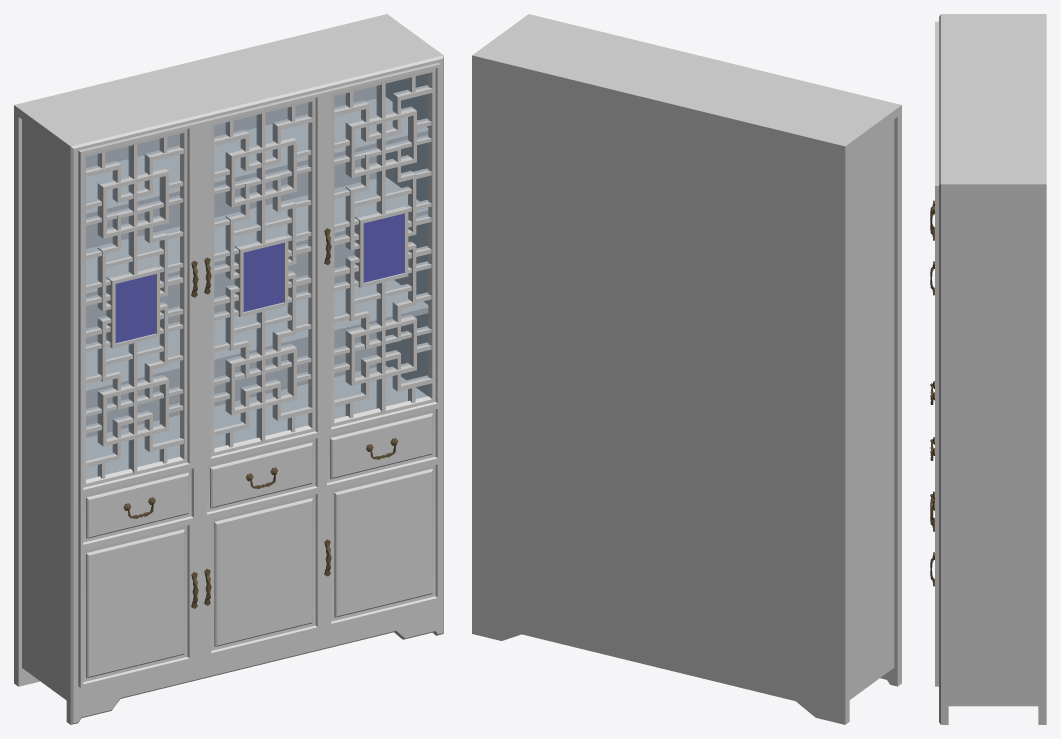
File: ZSSG01.FBX
3 views of the same model, side by side, from view 1: azimuth 30°, elevation 25°; view 2: azimuth 150°, elevation 25°; view 3: azimuth 270°, elevation 25° (orthographic). The views are drawn at different scales.
Parts seen in each view (by area): view 1: ZSSG01; view 2: ZSSG01; view 3: ZSSG01.
Boxes of the visible parts, x1,y1,x2,y2 form: ZSSG01: (14,14,443,724); ZSSG01: (472,14,901,724); ZSSG01: (930,14,1046,724).
Size of the model in its own units: 135 by 39.1 by 200.
